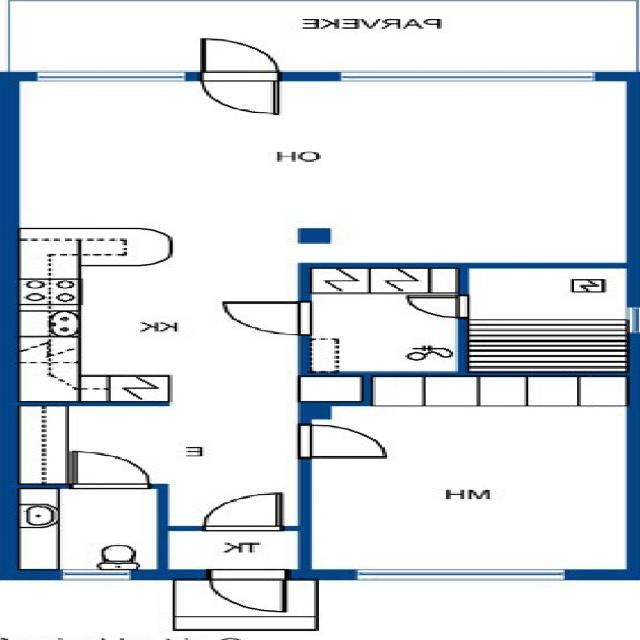door: (202, 38, 280, 81), (202, 72, 280, 114), (222, 302, 311, 335), (212, 570, 284, 610), (300, 425, 387, 457), (206, 494, 280, 530), (76, 453, 150, 487), (408, 295, 469, 317)
